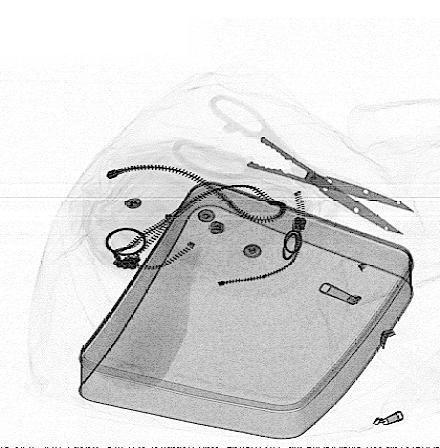Scissors: (168, 94, 417, 235)
